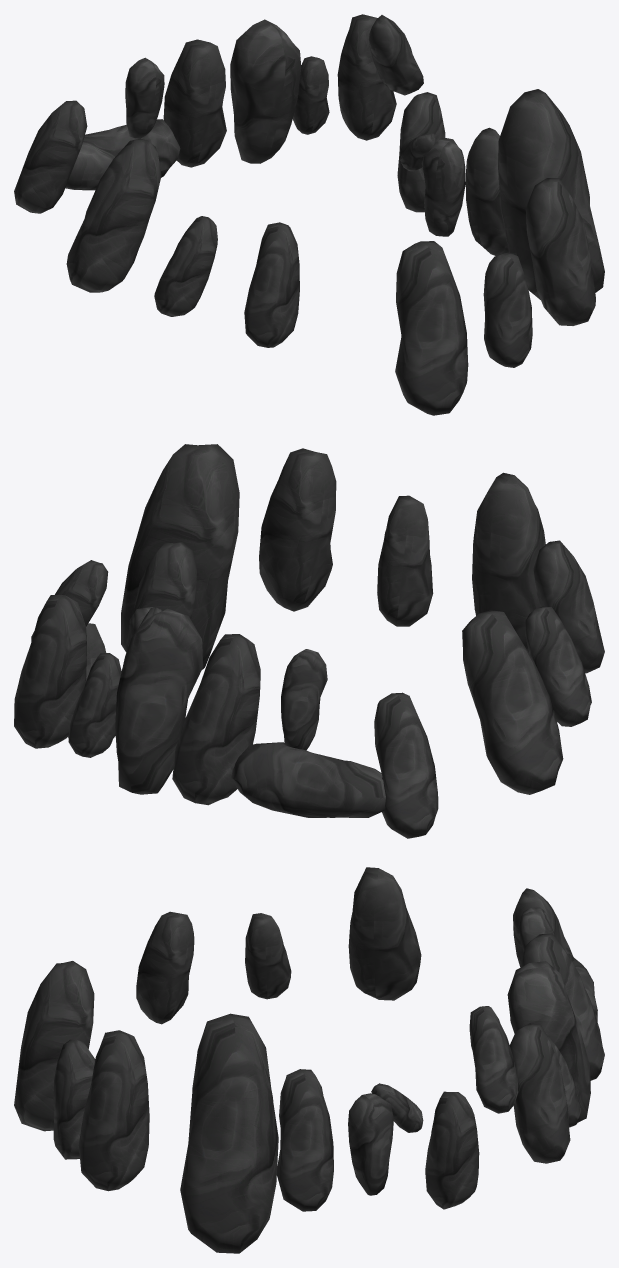
Rendered from CaveIslandWallRocksShape.dae.
3 renders of one model, top to bottom at view 1: azimuth 30°, elevation 25°; view 2: azimuth 150°, elevation 25°; view 3: azimuth 270°, elevation 25°, orthographic. The views are drawn at different scales.
Parts seen in each view (by area): view 1: CaveIslandWallRocks; view 2: CaveIslandWallRocks; view 3: CaveIslandWallRocks.
Part boxes in pixels (box(x1,y1,x2,y2)): CaveIslandWallRocks: box(14, 14, 604, 415); CaveIslandWallRocks: box(14, 444, 604, 838); CaveIslandWallRocks: box(14, 867, 604, 1253).
Bounding box in the file's own units: 118 × 53.23 × 130.
